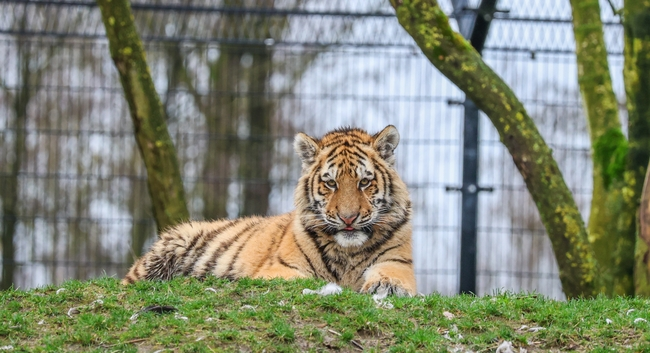tiger: (120, 125, 418, 300)
